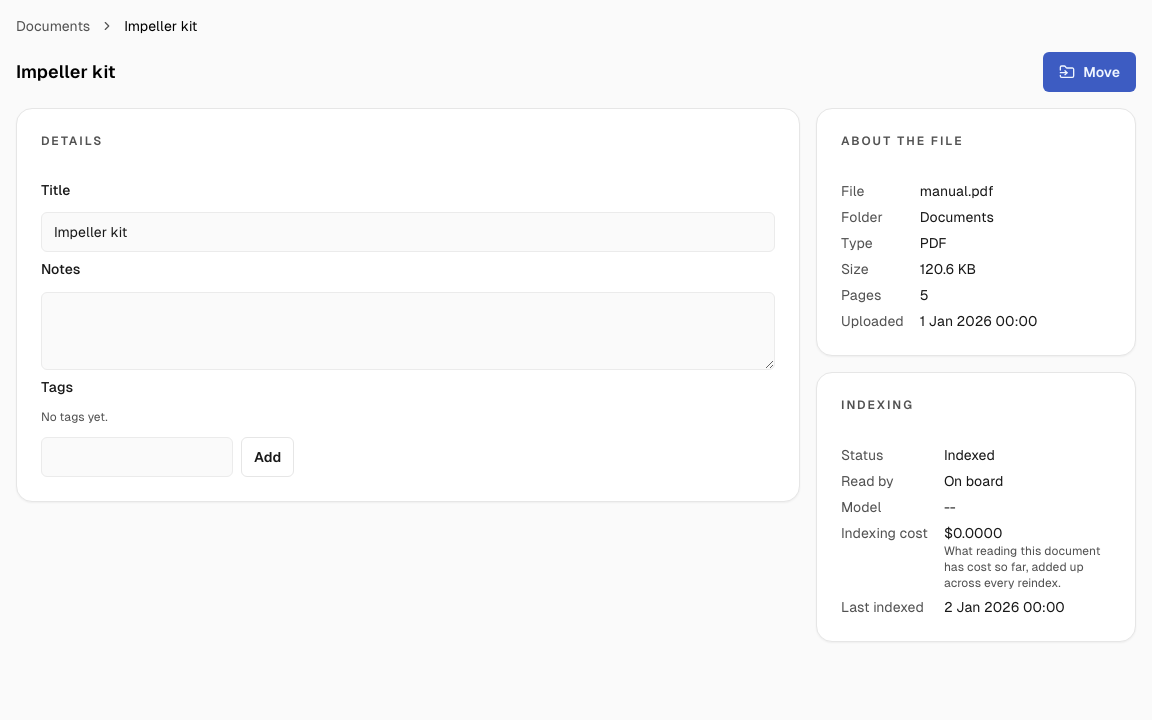
Test case: DocumentDetailsPage › a rejected save shows the server's message and leaves the draft intact
This screenshot has width=1152, height=720.
Replace the text in the field labelled "Title" with "Impeller kit v2" at (408, 232), box [41,212,775,252]
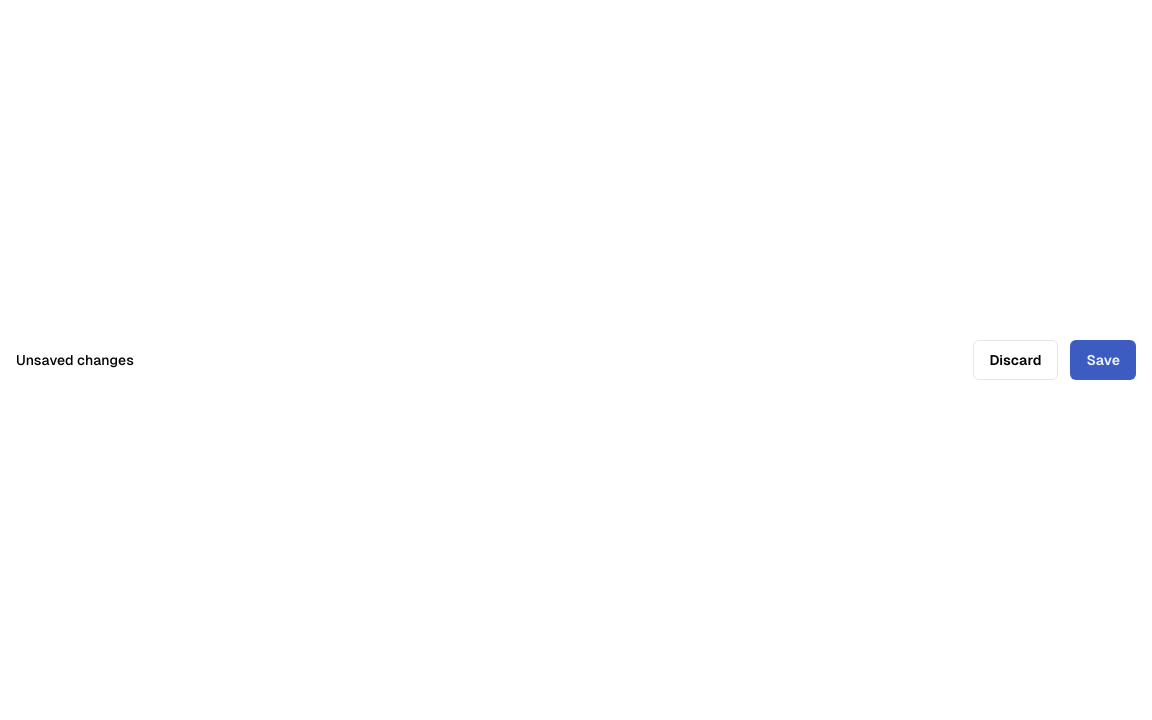
Click the button "Save" at (1103, 360), box [1070,340,1136,380]
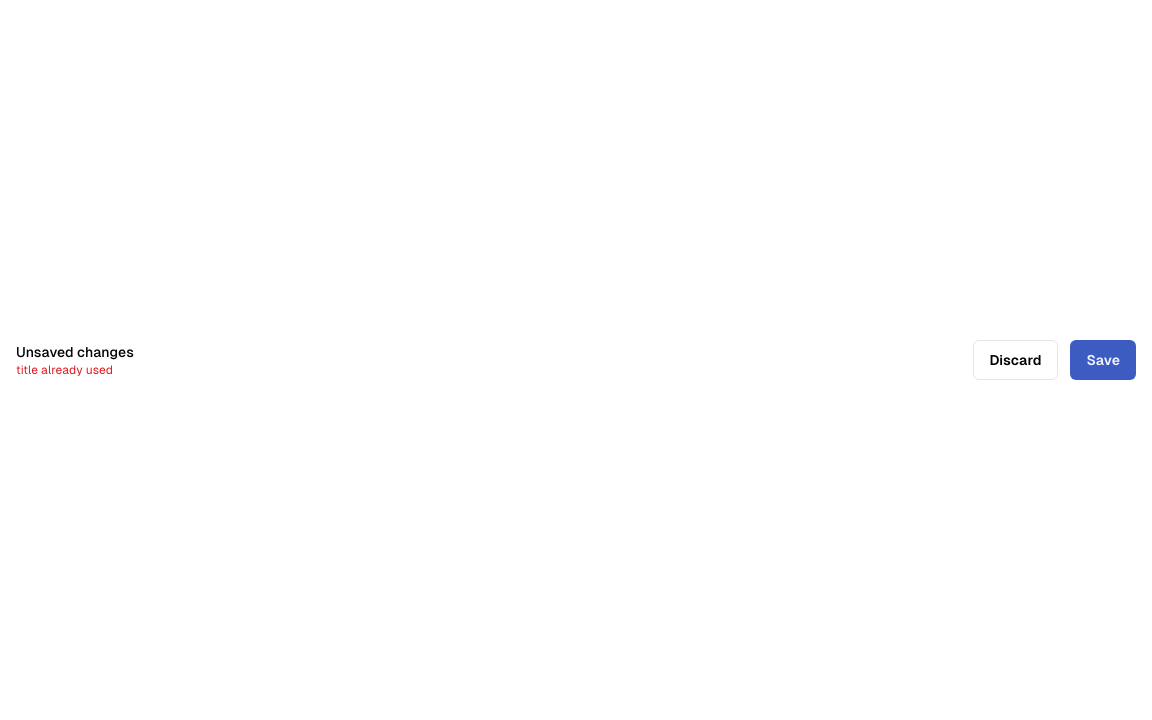
Check: the button "Save" is enabled, box [1070,340,1136,380]
Check: the message reads "title already used", box [16,363,113,377]
